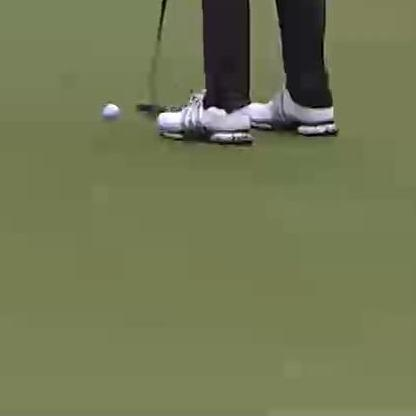golfball: (99, 101, 119, 119)
